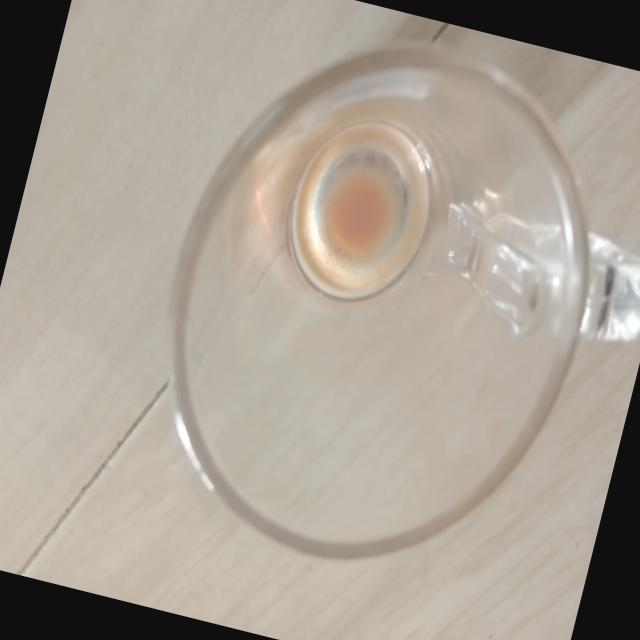glass-VX4N: (110, 0, 640, 624)
